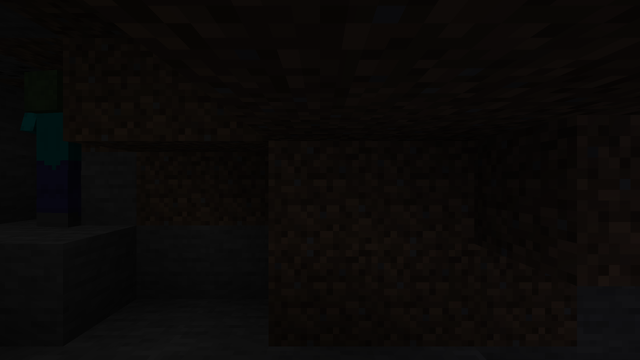zombies: (14, 73, 84, 229)
